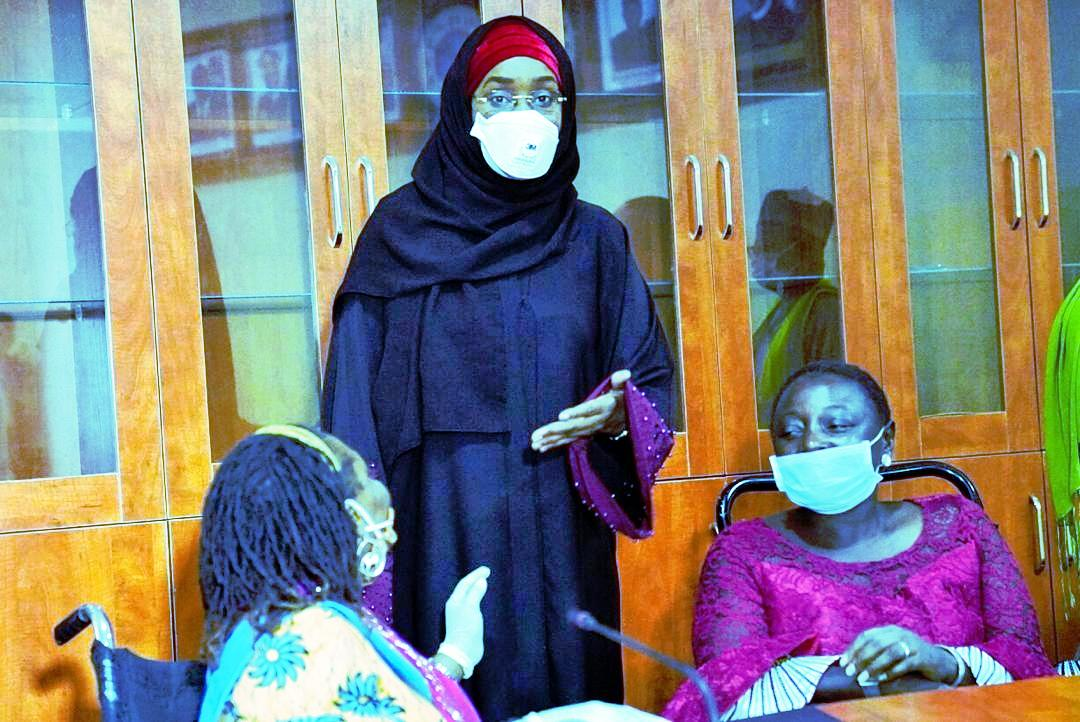mask_weared_incorrect: (768, 364, 895, 517)
